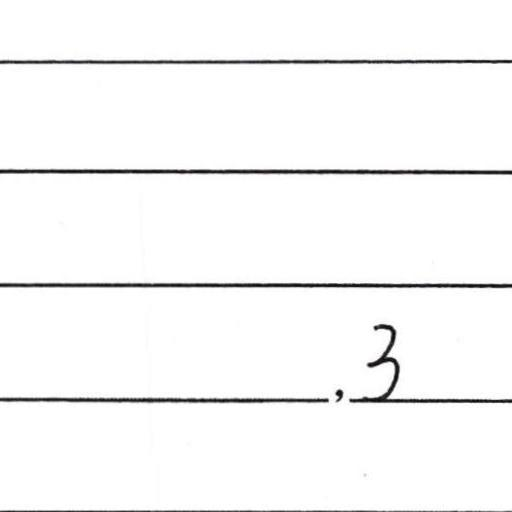ans: (356, 316, 404, 401)
